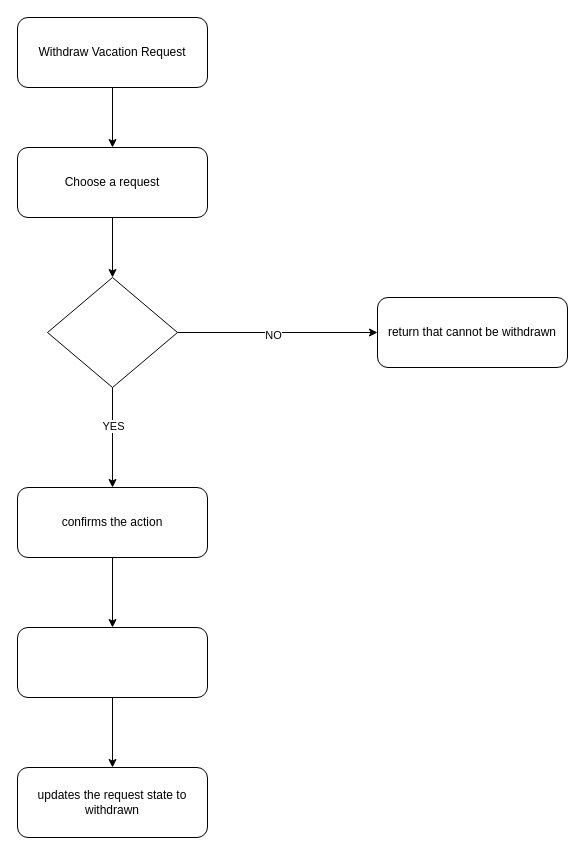
Image size: 585x855. Some labels were removed from this diagram. Each missing label, with the centre of its shape:
"If status pending" goes at [112,332].
"send a notification e-mail to the manager" goes at [112,662].
